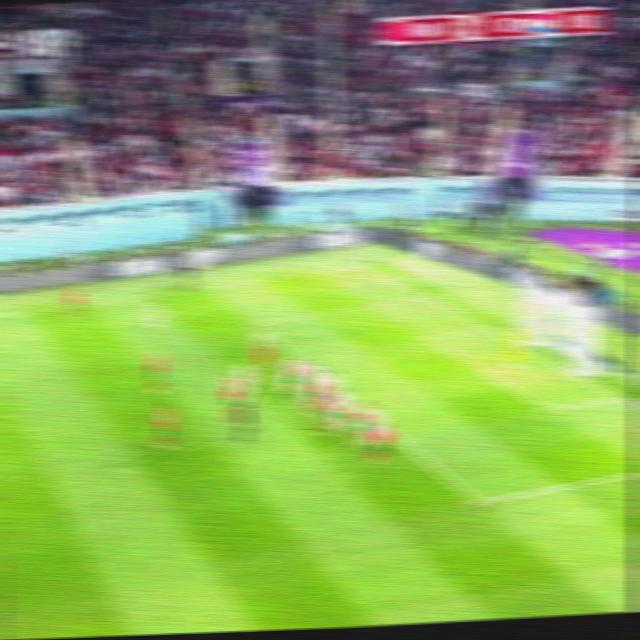bigarea_bottom_inner: (465, 487, 494, 514)
bigarea_top_inner: (244, 314, 264, 331)
bigarea_top_outter: (416, 287, 439, 302)
corner: (354, 257, 377, 270)
smallarea_bottom_inner: (537, 395, 561, 420)
smallarea_bottom_outter: (609, 385, 632, 405)
smallarea_top_inner: (418, 328, 440, 344)
smallarea_top_outter: (474, 318, 497, 334)
